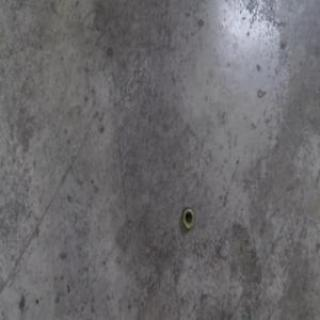Nuttrack_idkeyframe: (182, 206, 194, 231)
